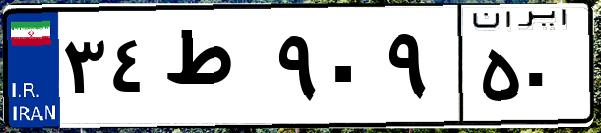0: (330, 28, 385, 110), (525, 38, 570, 115)
3: (57, 26, 110, 100)
4: (110, 28, 158, 98)
5: (475, 38, 525, 113)
9: (270, 28, 330, 110), (385, 28, 445, 110)
ط: (158, 20, 270, 120)
